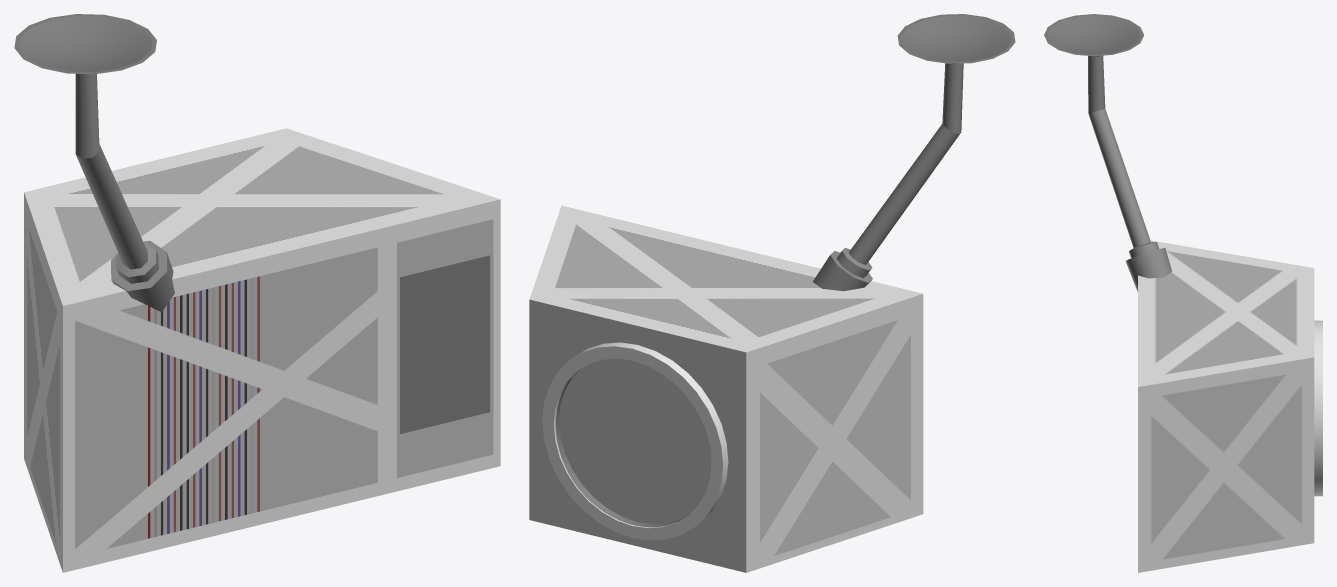
Rendered from iss_z1.fbx.
3 views of the same model, side by side, from view 1: azimuth 30°, elevation 25°; view 2: azimuth 150°, elevation 25°; view 3: azimuth 270°, elevation 25° (orthographic). The views are drawn at different scales.
Visible parts, largest first — view 1: z1; view 2: z1; view 3: z1.
Boxes of the visible parts, x1,y1,x2,y2 form: z1: [14, 14, 500, 572]; z1: [529, 14, 1015, 572]; z1: [1044, 14, 1322, 572].
Size of what is drawn, in the model's own units: 4.65 by 4.84 by 3.17.
